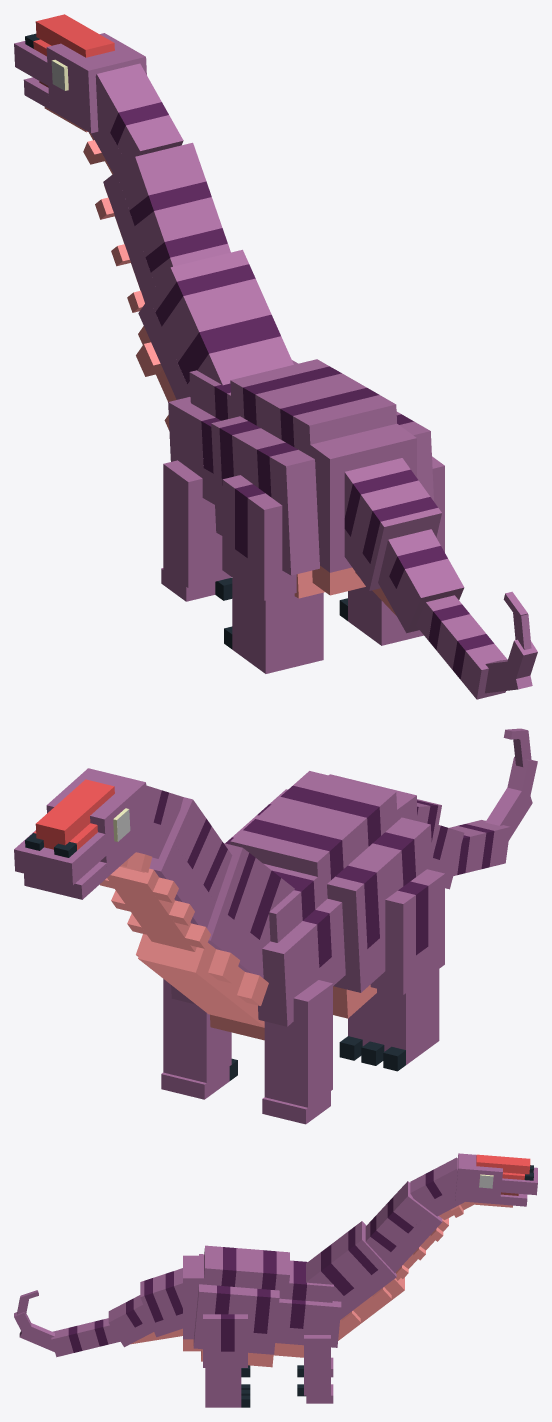
Rendered from apatosaurus.obj.
3 renders of one model, top to bottom at view 1: azimuth 30°, elevation 25°; view 2: azimuth 150°, elevation 25°; view 3: azimuth 270°, elevation 25°, orthographic. The views are drawn at different scales.
Parts seen in each view (by area): view 1: Head, LowerTorso, Tail, LeftUpperLeg, LeftUpperArm, UpperTorso, RightUpperLeg; view 2: Head, LowerTorso, LeftUpperLeg, UpperTorso, LeftUpperArm, Tail, RightUpperArm; view 3: Head, LowerTorso, Tail, RightUpperLeg, UpperTorso, RightUpperArm.
Part boxes in pixels (left/top/right/bottom): Head: left=14, top=14, right=293, bottom=430; LowerTorso: left=211, top=359, right=433, bottom=598; Tail: left=344, top=458, right=537, bottom=699; LeftUpperLeg: left=222, top=475, right=323, bottom=673; LeftUpperArm: left=161, top=460, right=232, bottom=601; UpperTorso: left=168, top=360, right=297, bottom=504; RightUpperLeg: left=339, top=456, right=444, bottom=645; Head: left=14, top=768, right=294, bottom=1027; LowerTorso: left=225, top=771, right=432, bottom=1018; LeftUpperLeg: left=339, top=869, right=444, bottom=1071; UpperTorso: left=171, top=863, right=345, bottom=1040; LeftUpperArm: left=262, top=980, right=332, bottom=1124; Tail: left=417, top=728, right=537, bottom=889; RightUpperArm: left=161, top=979, right=237, bottom=1099; Head: left=306, top=1153, right=537, bottom=1340; LowerTorso: left=183, top=1245, right=289, bottom=1367; Tail: left=14, top=1268, right=182, bottom=1357; RightUpperLeg: left=203, top=1314, right=250, bottom=1407; UpperTorso: left=274, top=1260, right=341, bottom=1357; RightUpperArm: left=297, top=1335, right=333, bottom=1403.
Bounding box in the file's own units: 12.5 × 27.84 × 58.38.
